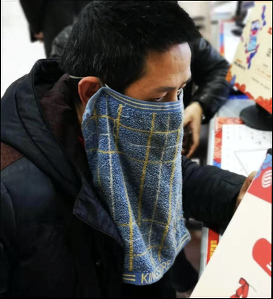with_mask: (101, 75, 193, 169)
